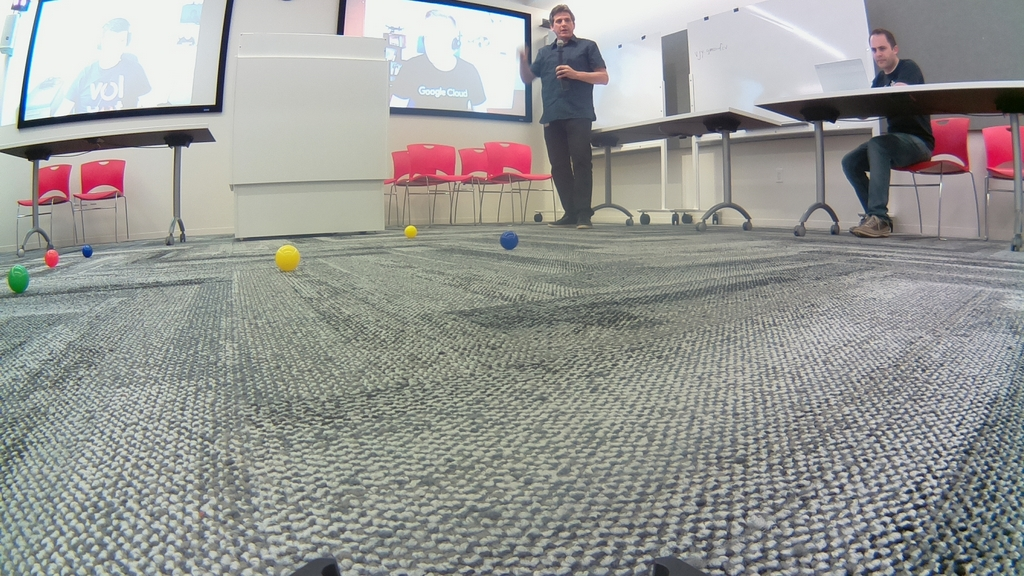ball: (82, 245, 91, 259)
